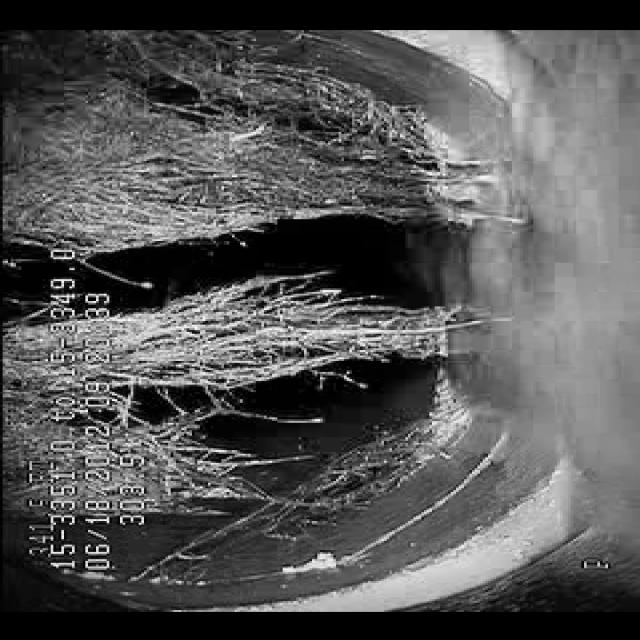Crack: (331, 468, 518, 568)
